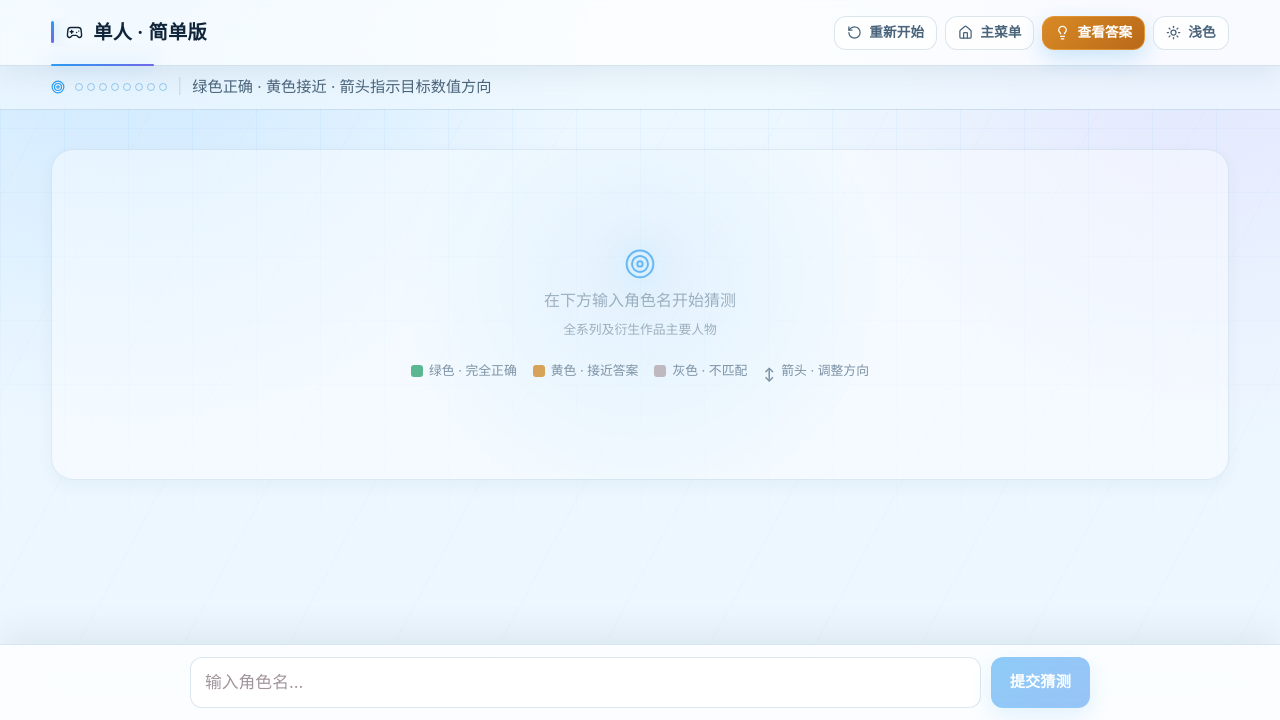
Test: SingleGame UX › keeps an unrecorded settlement warning visible in the answer dialog
This screenshot has width=1280, height=720.
Expected: the dropdown with placeholder "输入角色名..." is enabled, x1=190 y1=657 x2=981 y2=708
Click the button "查看答案". click: (1094, 32)
box: x1=1042 y1=16 x2=1145 y2=50
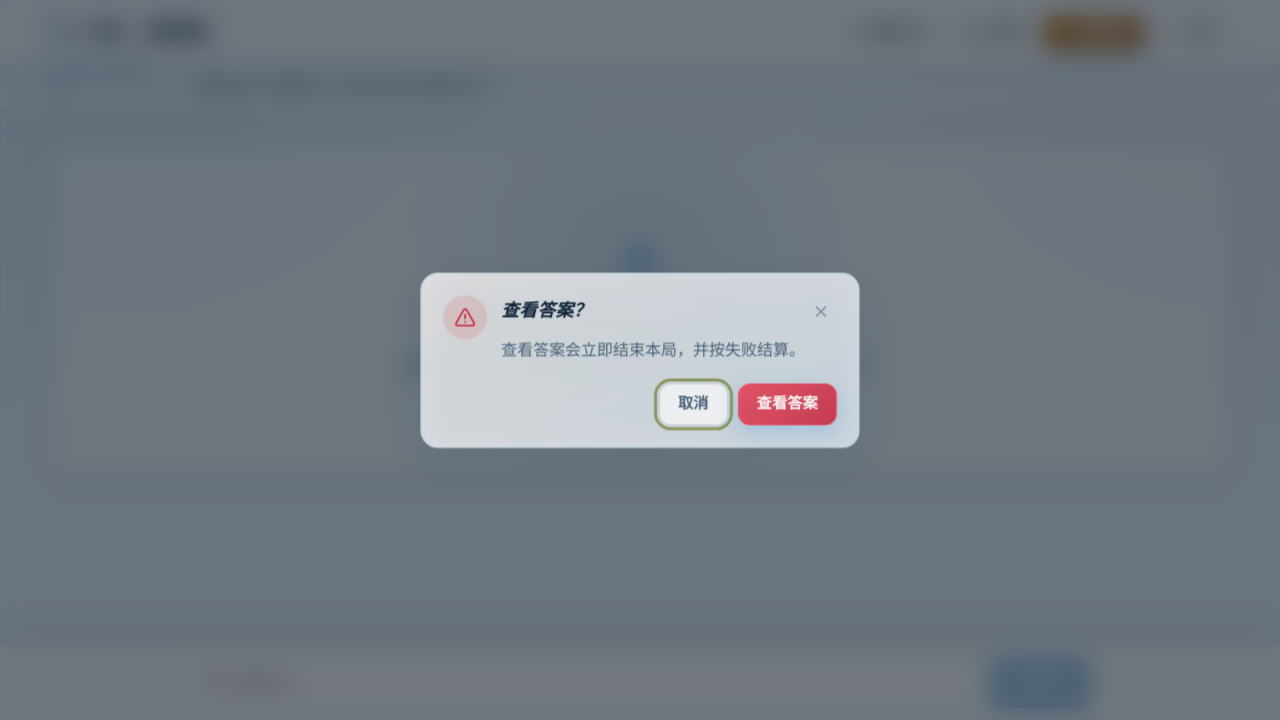
Click the button "查看答案". click: (787, 404)
box: x1=738 y1=383 x2=837 y2=425
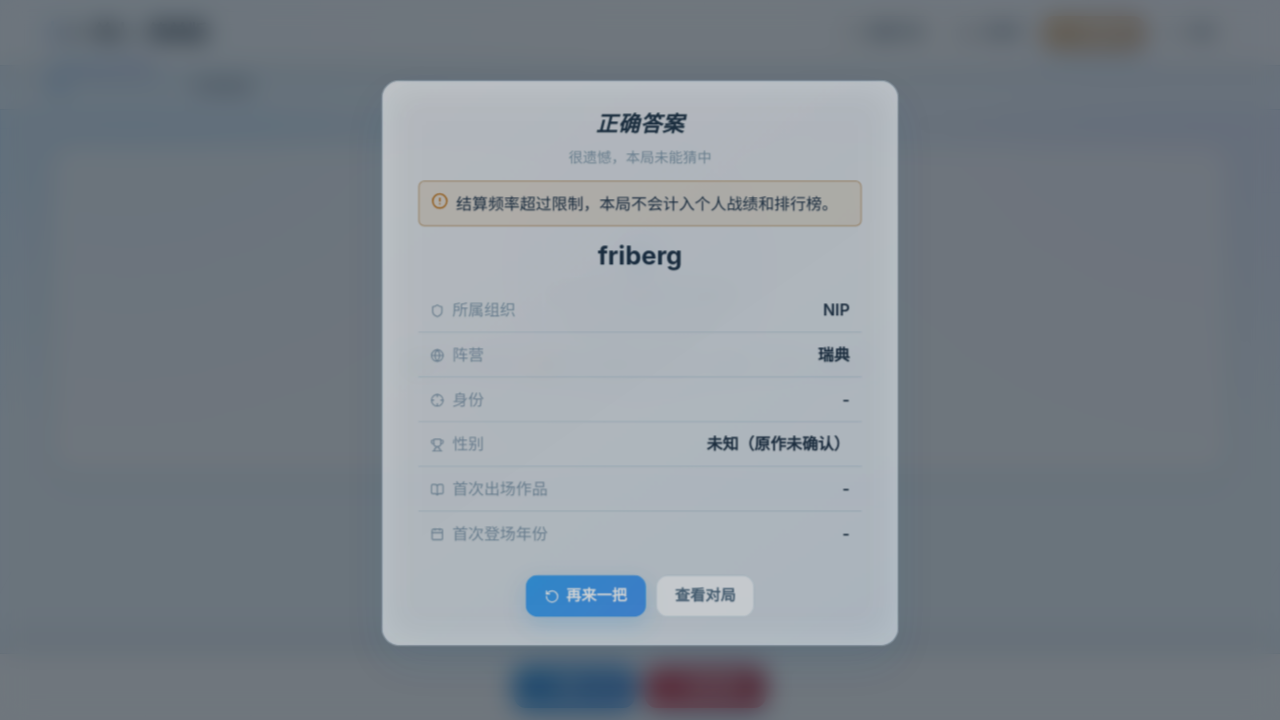
Expected: the dialog shows "friberg", x1=598 y1=236 x2=682 y2=267
Expected: the dialog shows "结算频率超过限制，本局不会计入个人战绩和排行榜。", x1=455 y1=190 x2=839 y2=210
